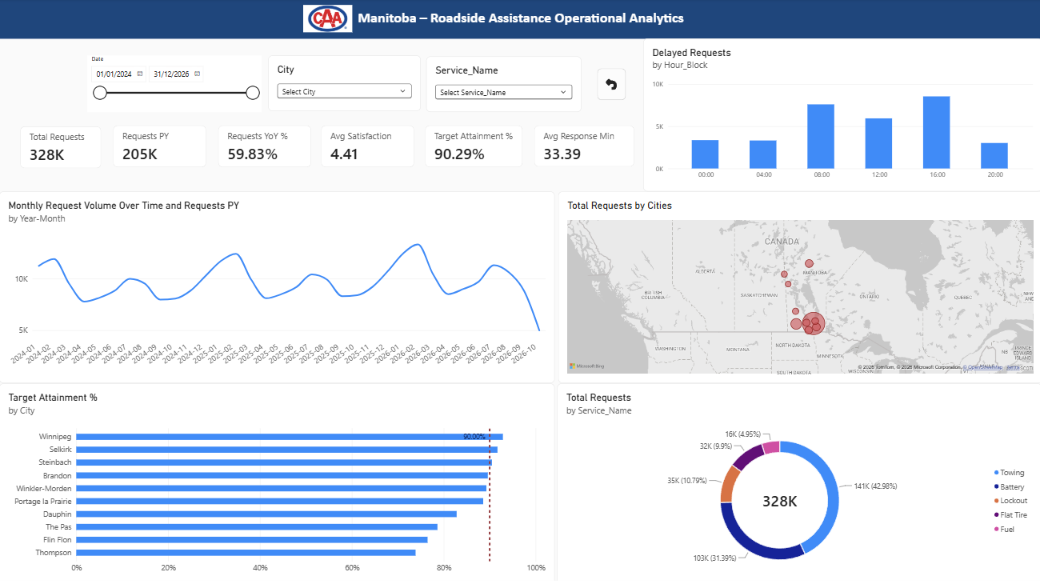

The dashboard page shown, as its layout file describes it:
{"tool":"powerbi","page":{"name":"Executive Overview","canvas":[1920,1080],"ordinal":1},"visuals":[{"type":"listSlicer","fields":{"Values":["Location.City"]},"box":[494.9,104.6,281,102.4],"z":0},{"type":"listSlicer","fields":{"Values":["Service Type.Service_Name"]},"box":[785.8,105.9,285.7,102.6],"z":1000},{"type":"cardVisual","fields":{"Data":["_Measures.Avg Satisfaction"]},"box":[593.5,234.3,171.4,77.6],"z":2000},{"type":"cardVisual","fields":{"Data":["_Measures.Target Attainment %"]},"box":[783.3,234.3,179.2,77.9],"z":3000},{"type":"cardVisual","fields":{"Data":["_Measures.Avg Response Min"]},"box":[985.3,234.3,184.4,76.6],"z":4000},{"type":"cardVisual","fields":{"Data":["_Measures.Total Requests"]},"box":[39.1,235.2,149.4,77.9],"z":5000},{"type":"shape","box":[0,0,1919.5,74],"z":6000},{"type":"textbox","box":[0,18.1,1920.1,56.1],"z":7000},{"type":"slicer","fields":{"Values":["Date.Date"]},"box":[162.4,104.6,320.8,103.9],"z":8000},{"type":"lineChart","fields":{"Category":["Date.Year-Month"],"Y":["_Measures.Total Requests"]},"box":[0,355.1,1022.4,353.1],"z":9000},{"type":"clusteredBarChart","fields":{"Category":["Location.City"],"Y":["_Measures.Target Attainment %"]},"box":[0,708.2,1022.4,371.4],"z":10000},{"type":"donutChart","fields":{"Category":["Service Type.Service_Name"],"Y":["_Measures.Total Requests"]},"box":[1027.8,708.3,891.7,372.2],"z":11000},{"type":"actionButton","box":[1100,128.6,52.8,58.3],"z":12000},{"type":"image","box":[559.2,0,90.5,74.2],"z":13000},{"type":"map","title":"Total Requests by Cities","fields":{"Size":["_Measures.Total Requests"],"X":["Location.Longitude"],"Y":["Location.Latitude"]},"box":[1028.6,355.1,891.8,353.1],"z":14000},{"type":"cardVisual","fields":{"Data":["_Measures.Requests PY"]},"box":[209.8,234.3,171.4,77.9],"z":15000},{"type":"cardVisual","fields":{"Data":["_Measures.Requests YoY %"]},"box":[403.7,234.3,171.4,77.9],"z":16000},{"type":"columnChart","fields":{"Category":["Roadside Assistance.Hour_Block"],"Y":["_Measures.Delayed Requests"]},"box":[1185.7,73.5,734.7,281.6],"z":17000}]}

Visuals, with their boxes in screenshot pixels (x1, y1, x2, y2), scaled from the page's 1920x1080 canvas onto the 1040x581 screenshot:
listSlicer - Location.City: crop(268, 56, 420, 111)
listSlicer - Service Type.Service_Name: crop(426, 57, 580, 112)
cardVisual - _Measures.Avg Satisfaction: crop(321, 126, 414, 168)
cardVisual - _Measures.Target Attainment %: crop(424, 126, 521, 168)
cardVisual - _Measures.Avg Response Min: crop(534, 126, 634, 167)
cardVisual - _Measures.Total Requests: crop(21, 127, 102, 168)
shape: crop(0, 0, 1039, 40)
textbox: crop(0, 10, 1039, 40)
slicer - Date.Date: crop(88, 56, 262, 112)
lineChart - Date.Year-Month x _Measures.Total Requests: crop(0, 191, 554, 381)
clusteredBarChart - Location.City x _Measures.Target Attainment %: crop(0, 381, 554, 580)
donutChart - Service Type.Service_Name x _Measures.Total Requests: crop(557, 381, 1039, 580)
actionButton: crop(596, 69, 624, 101)
image: crop(303, 0, 352, 40)
"Total Requests by Cities" map: crop(557, 191, 1039, 381)
cardVisual - _Measures.Requests PY: crop(114, 126, 206, 168)
cardVisual - _Measures.Requests YoY %: crop(219, 126, 312, 168)
columnChart - Roadside Assistance.Hour_Block x _Measures.Delayed Requests: crop(642, 40, 1039, 191)
